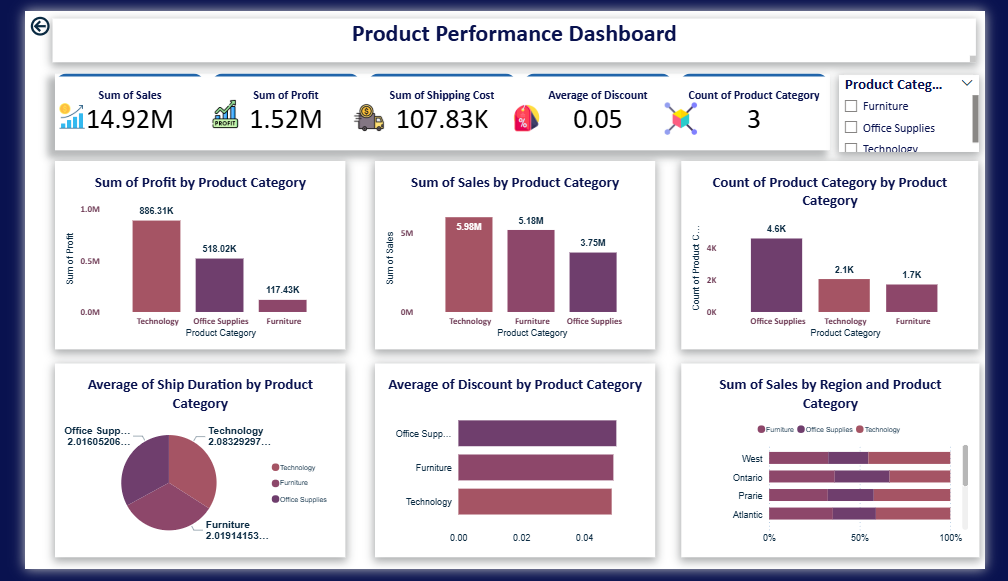

The page's visual inventory and layout, read from the dashboard file:
{"tool":"powerbi","page":{"name":"Product","canvas":[1280,743],"ordinal":2},"visuals":[{"type":"actionButton","box":[0,0,100,40],"z":0},{"type":"cardVisual","fields":{"Data":["Sum(Final Data.Sales)","Sum(Final Data.Profit)","Sum(Final Data.Shipping Cost)","Avg(Final Data.Discount)","Count(Final Data.Product Category)"]},"box":[40.4,83.3,1033.5,102.2],"z":1000},{"type":"slicer","fields":{"Values":["Final Data.Product Category"]},"box":[1085.2,84.5,186.8,102.2],"z":2000},{"type":"clusteredColumnChart","fields":{"Category":["Final Data.Product Category"],"Y":["Sum(Final Data.Profit)"]},"box":[40.4,199.4,387.4,251.1],"z":3000},{"type":"columnChart","fields":{"Y":["Sum(Final Data.Sales)"],"Category":["Final Data.Product Category"]},"box":[466.9,199.4,373.5,251.1],"z":4000},{"type":"columnChart","fields":{"Y":["CountNonNull(Final Data.Product Category)"],"Category":["Final Data.Product Category"]},"box":[874.5,199.4,396.2,251.1],"z":5000},{"type":"pieChart","fields":{"Category":["Final Data.Product Category"],"Y":["Avg(Final Data.Ship Duration)"]},"box":[40.4,470.7,387.4,258.7],"z":6000},{"type":"clusteredBarChart","fields":{"Category":["Final Data.Product Category"],"Y":["Avg(Final Data.Discount)"]},"box":[466.9,470.7,373.5,258.7],"z":7000},{"type":"hundredPercentStackedBarChart","fields":{"Y":["Sum(Final Data.Sales)"],"Category":["Final Data.Region"],"Series":["Final Data.Product Category"]},"box":[874.5,470.7,397.5,258.7],"z":8000},{"type":"textbox","title":"Product Performance Dashboard ","box":[37.3,10,1231.3,58.5],"z":9000},{"type":"image","box":[0,106,126,66],"z":10000},{"type":"image","box":[176,104,181,68],"z":11000},{"type":"image","box":[395,107,127,71],"z":12000},{"type":"image","box":[620,110,98,65],"z":13000},{"type":"image","box":[801,106,146,73],"z":14000}]}

Visuals, with their boxes in screenshot pixels (x1, y1, x2, y2), scaled from the page's 1280x743 canvas onto the 1008x581 screenshot:
actionButton: crop(0, 0, 79, 31)
cardVisual - Sum(Final Data.Sales) x Sum(Final Data.Profit): crop(32, 65, 846, 145)
slicer - Final Data.Product Category: crop(855, 66, 1002, 146)
clusteredColumnChart - Final Data.Product Category x Sum(Final Data.Profit): crop(32, 156, 337, 352)
columnChart - Sum(Final Data.Sales) x Final Data.Product Category: crop(368, 156, 662, 352)
columnChart - CountNonNull(Final Data.Product Category) x Final Data.Product Category: crop(689, 156, 1001, 352)
pieChart - Final Data.Product Category x Avg(Final Data.Ship Duration): crop(32, 368, 337, 570)
clusteredBarChart - Final Data.Product Category x Avg(Final Data.Discount): crop(368, 368, 662, 570)
hundredPercentStackedBarChart - Sum(Final Data.Sales) x Final Data.Region: crop(689, 368, 1002, 570)
"Product Performance Dashboard " textbox: crop(29, 8, 999, 54)
image: crop(0, 83, 99, 134)
image: crop(139, 81, 281, 134)
image: crop(311, 84, 411, 139)
image: crop(488, 86, 565, 137)
image: crop(631, 83, 746, 140)
